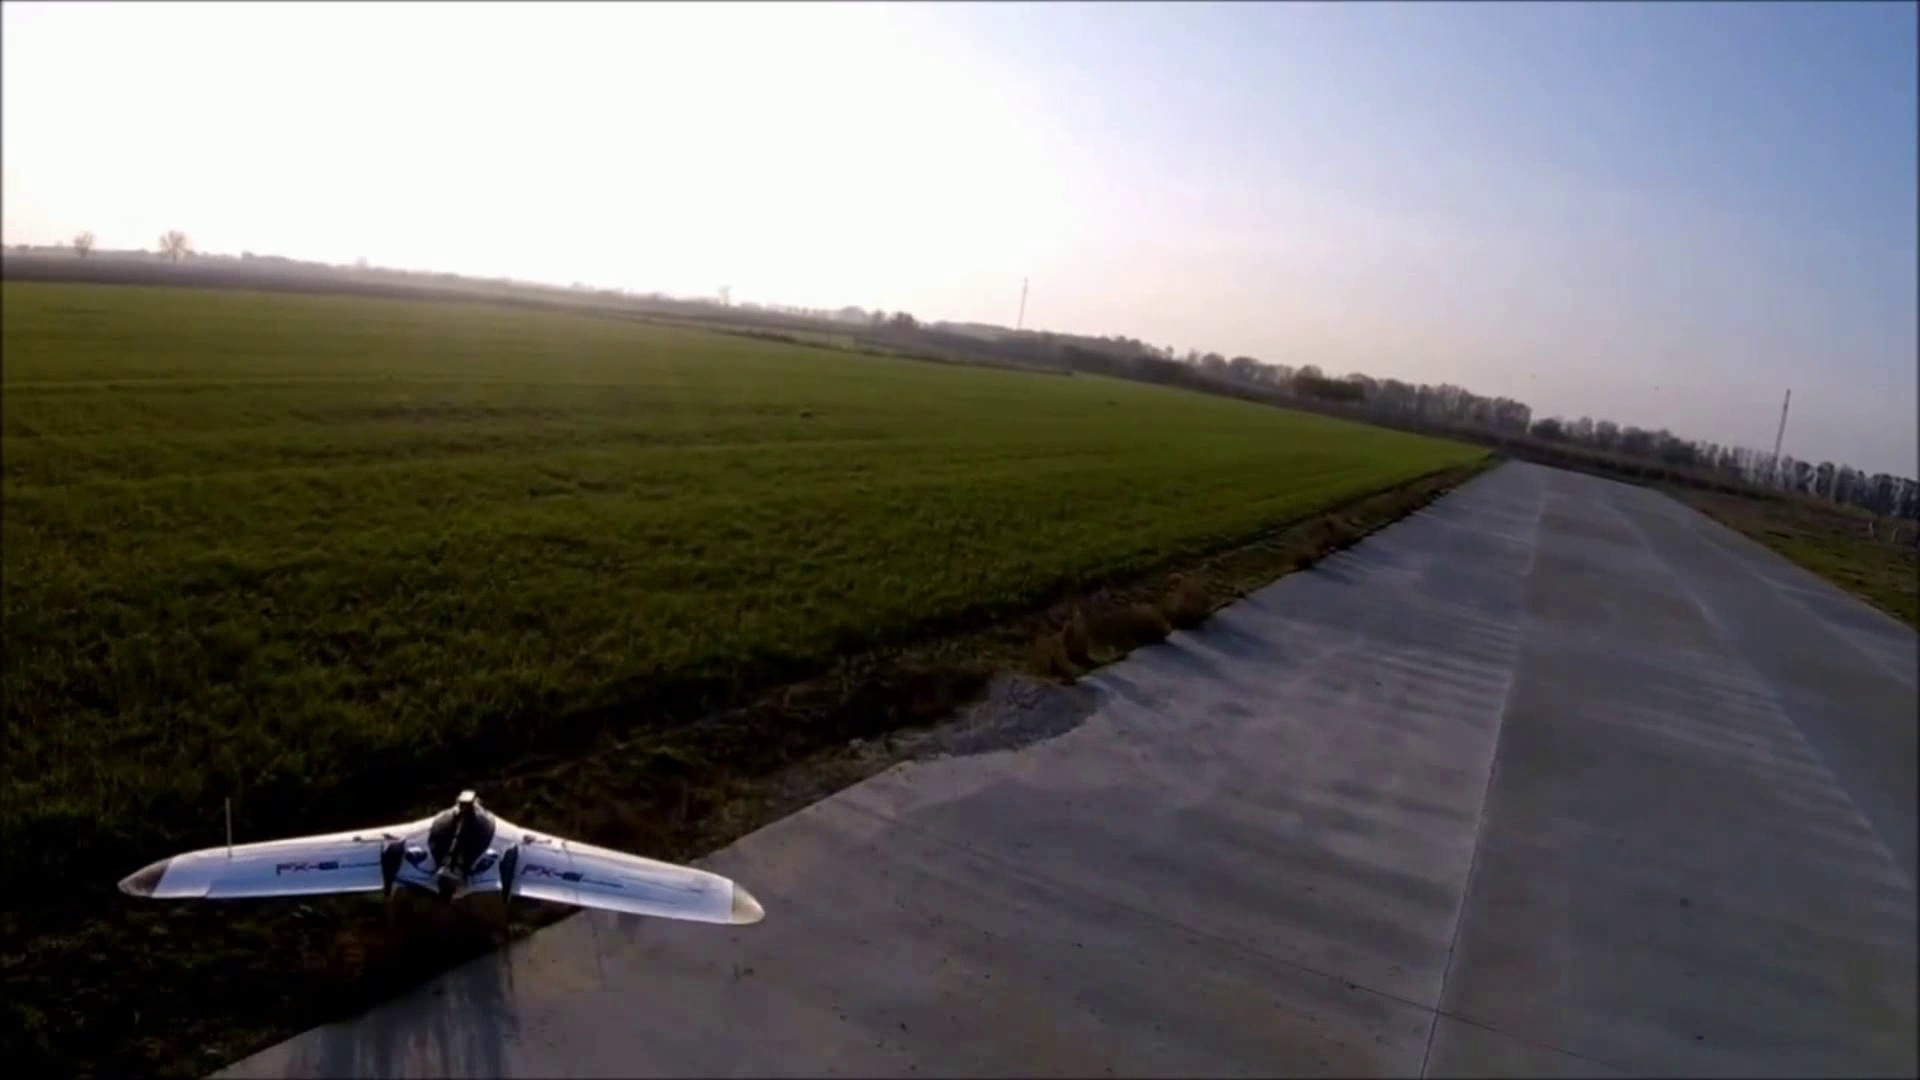airplane: (116, 793, 765, 930)
